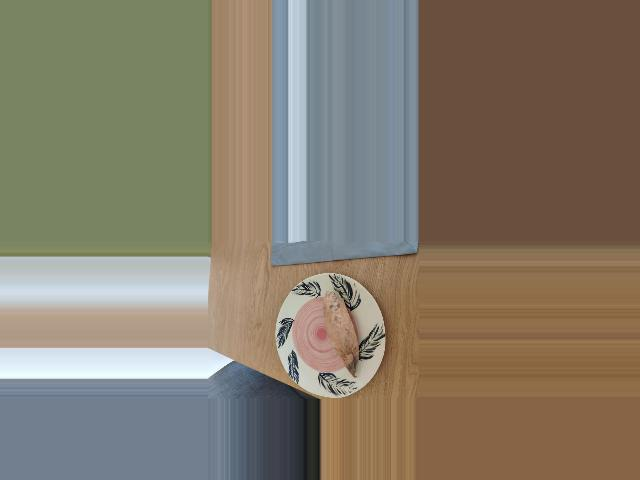sweet_potato: (317, 294, 365, 370)
